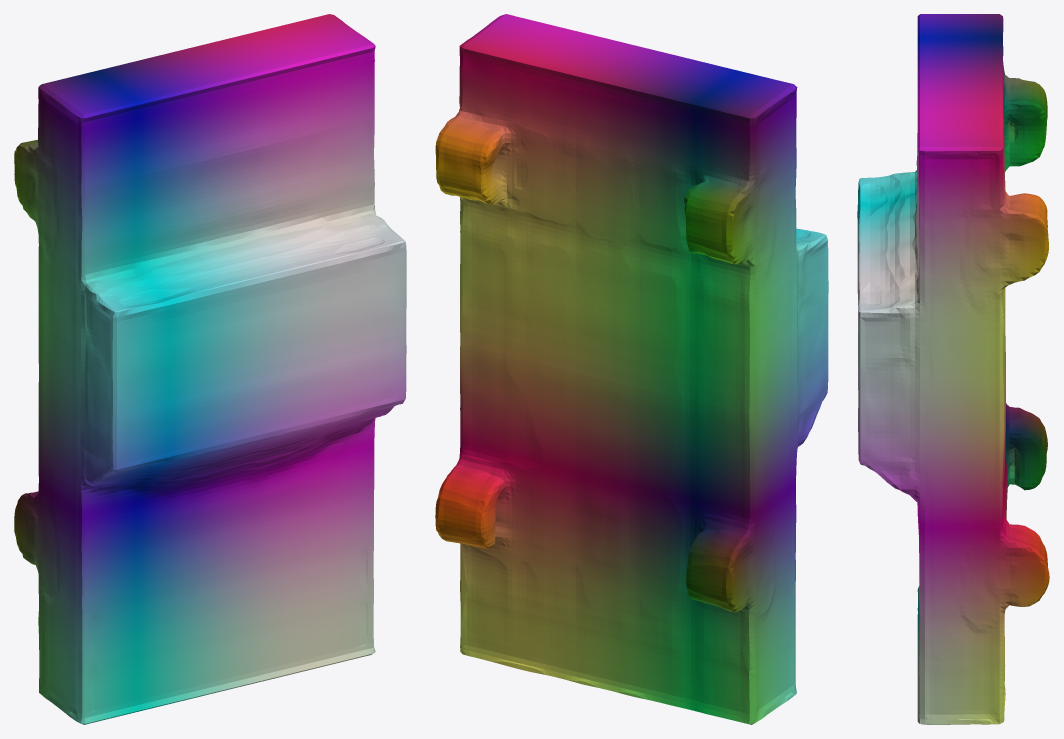
Rendered from A_Car.glb.
3 views of the same model, side by side, from view 1: azimuth 30°, elevation 25°; view 2: azimuth 150°, elevation 25°; view 3: azimuth 270°, elevation 25° (orthographic). The views are drawn at different scales.
Parts seen in each view (by area): view 1: world; view 2: world; view 3: world.
Part boxes in pixels (bbox=[...]): world: bbox=[14, 14, 406, 724]; world: bbox=[435, 14, 828, 724]; world: bbox=[857, 14, 1049, 724].
Bounding box in the file's own units: 1.01 × 1.98 × 0.5981.
